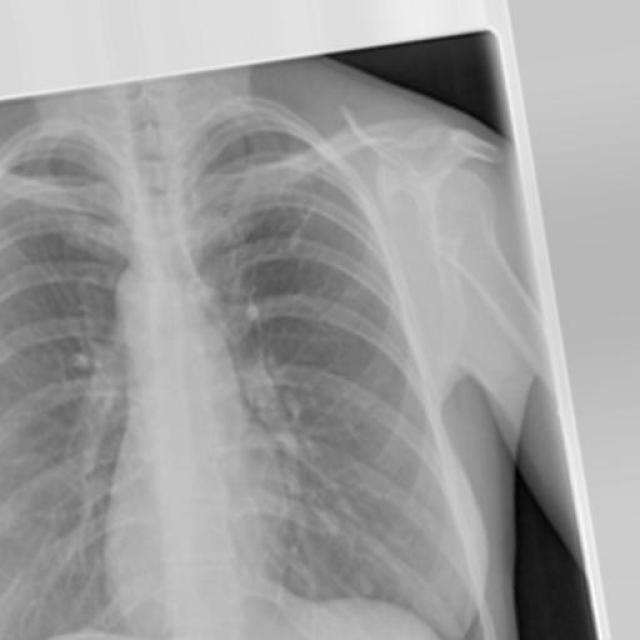tuberculosis: (0, 25, 603, 640)
